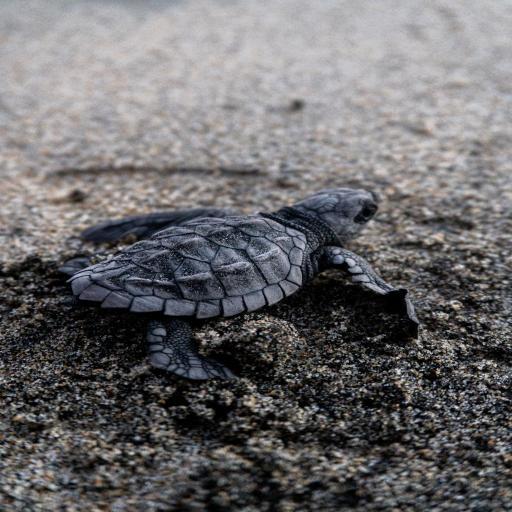turtles: (45, 139, 447, 404)
